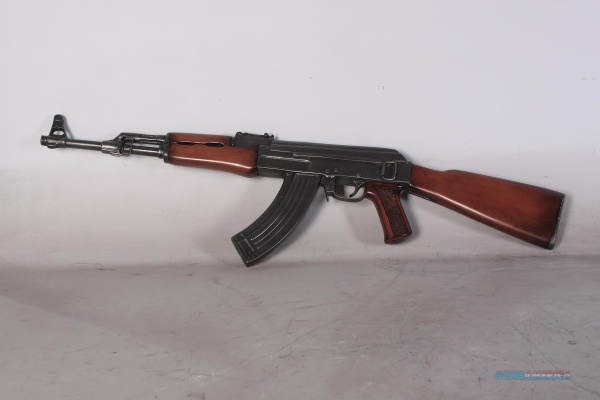ak47: (40, 114, 564, 264)
